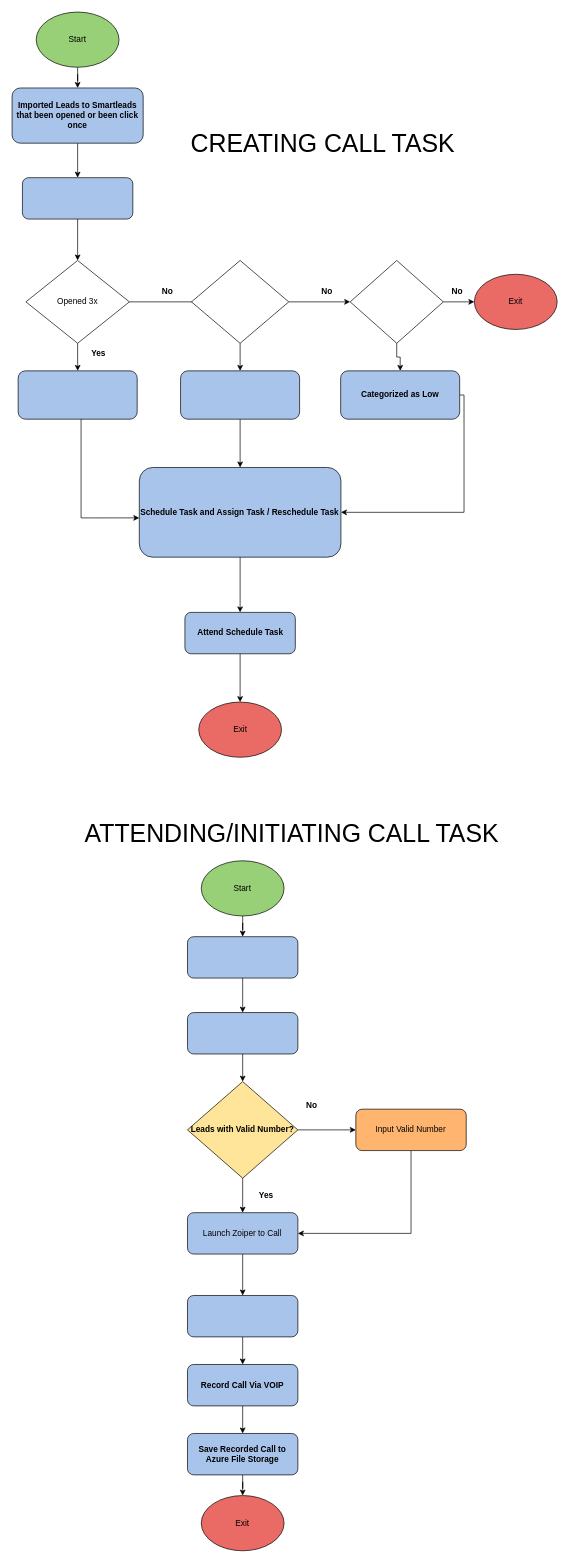
This 569x1563 diagram has some shape labels left out. The centre of each missing label's shape, as x and y in pixels:
"Categorized as High" belongs at point 240,394.
"Categorized as Urgent" belongs at point 77,394.
"Create Call Task" belongs at point 77,198.
"Initiating Call" belongs at point 242,1033.
"Log Call Information" belongs at point 242,1316.
"Opened 2x" belongs at point 240,301.
"Opened Once" belongs at point 396,301.
"Selecting Assigned Call Task" belongs at point 242,957.
